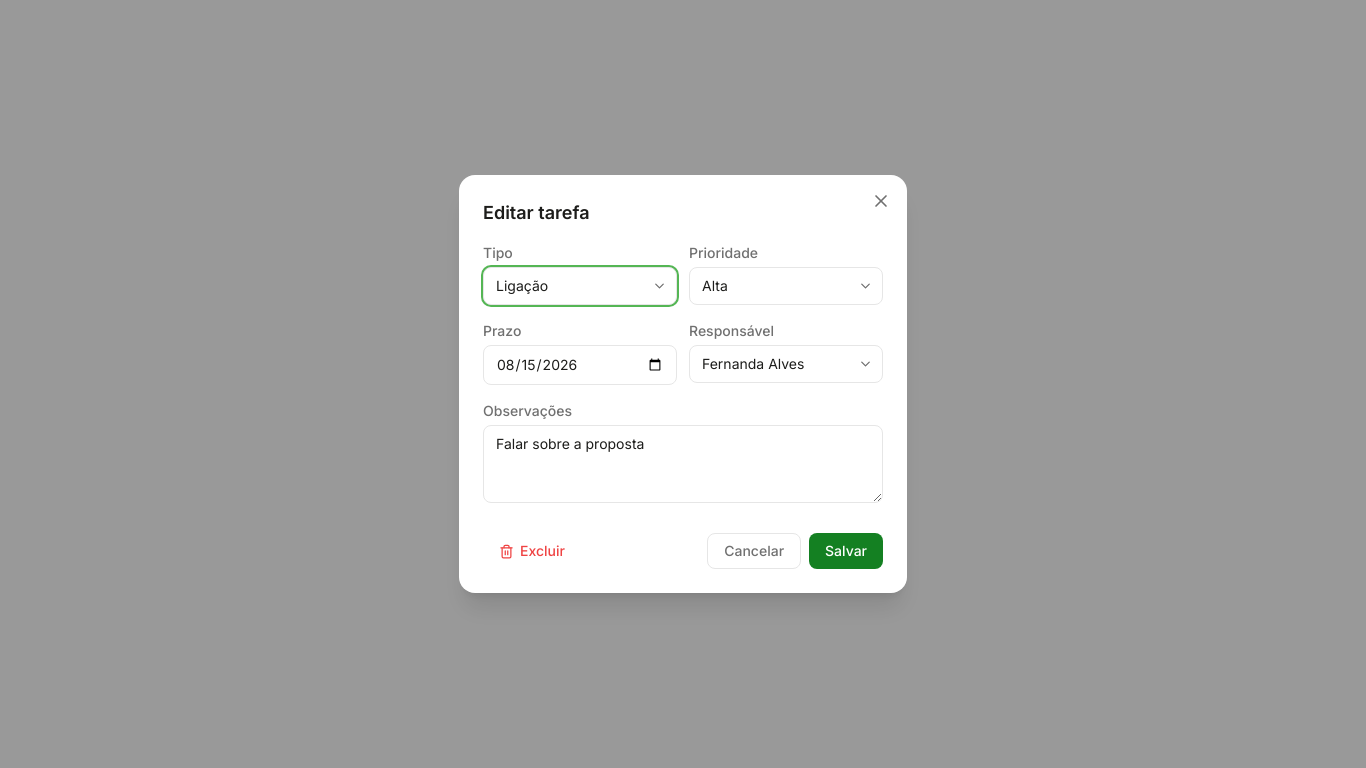
Test: TaskDialog — edit mode › should keep the task when the confirmation is dismissed
Click the button "Excluir".
click(532, 551)  # box [483,533,581,569]
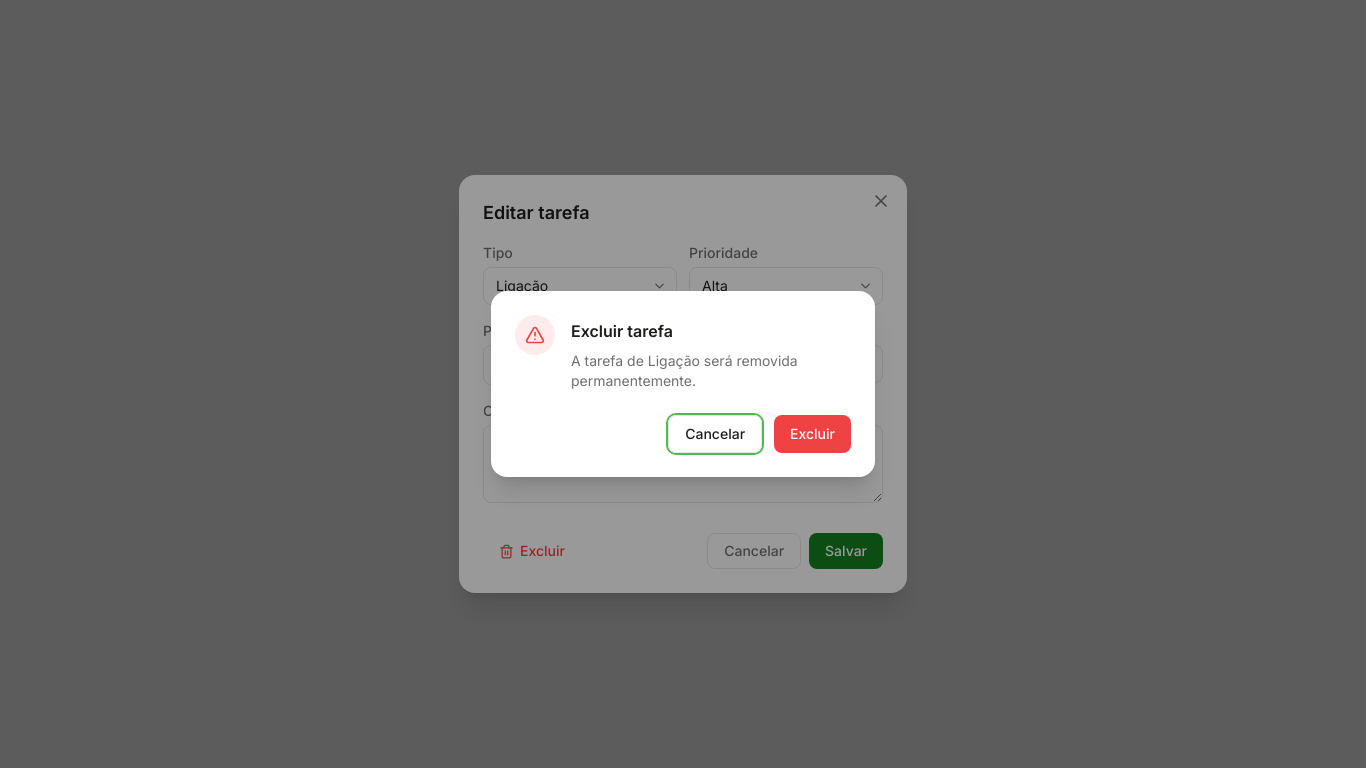
Expected: the heading "Excluir tarefa" is shown, [571,321,673,341]
Click the button "Cancelar".
click(715, 434)  # box [668,415,762,453]
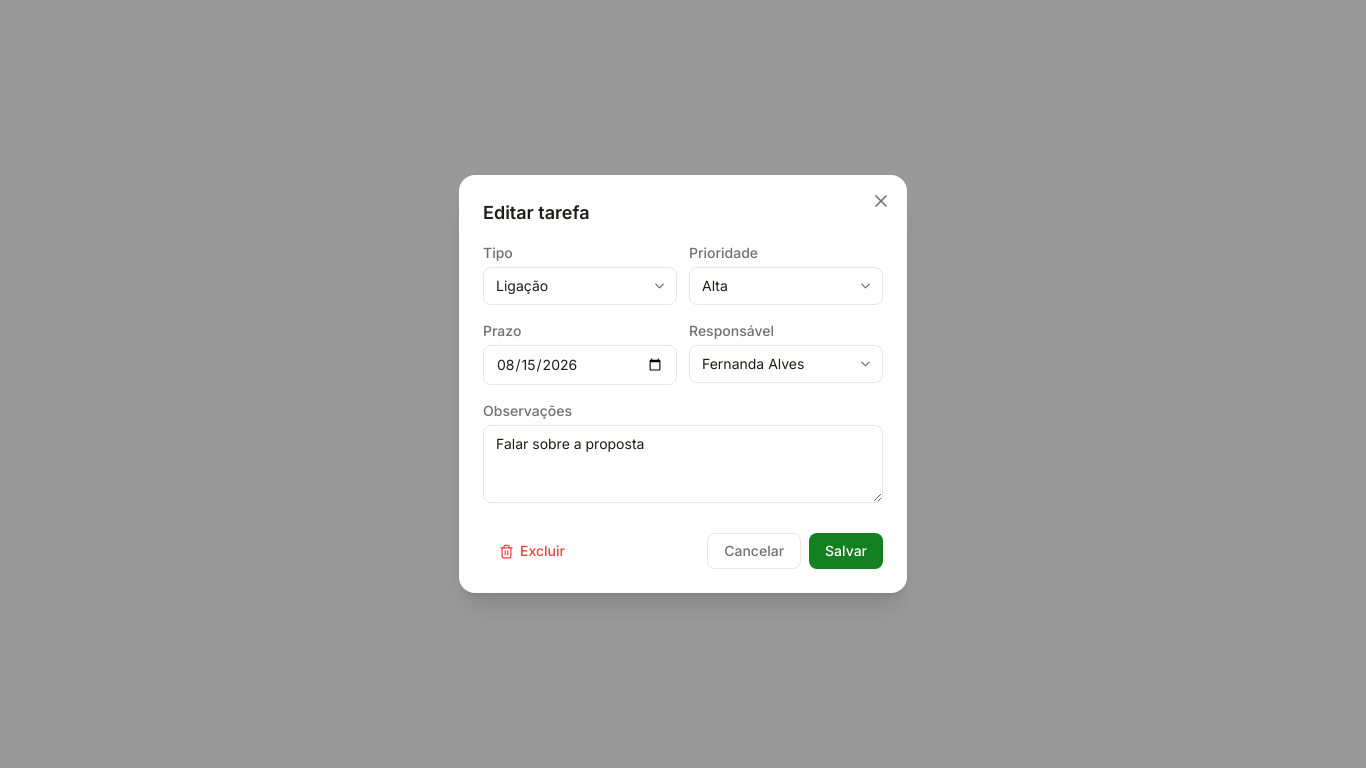
Expected: the heading "Excluir tarefa" is gone
